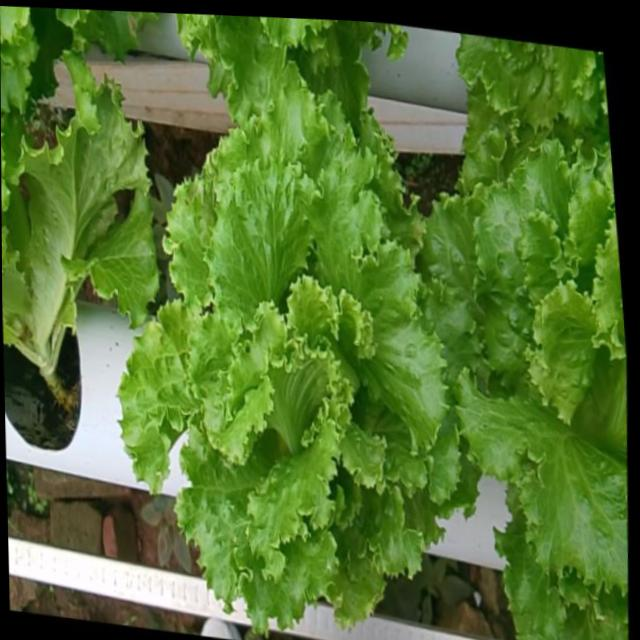Mature: (120, 88, 461, 629), (425, 143, 628, 601)
